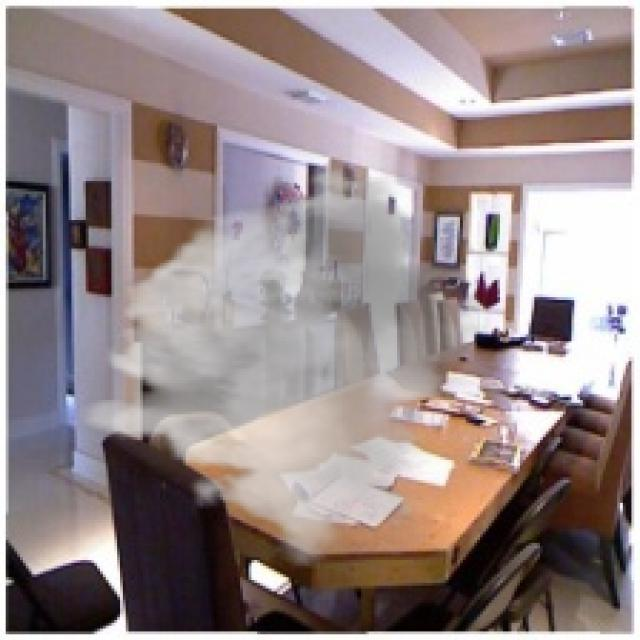smoke: (74, 163, 492, 568)
